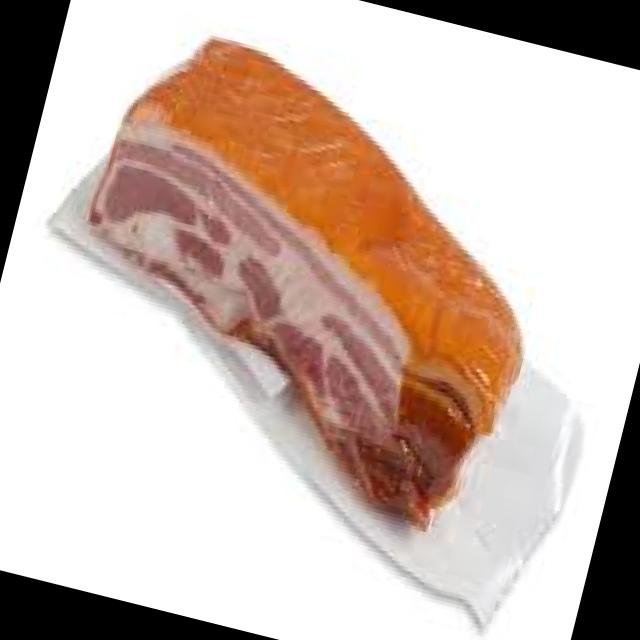pork: (10, 0, 626, 606)
